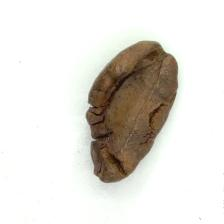NG: (87, 61, 165, 169)
